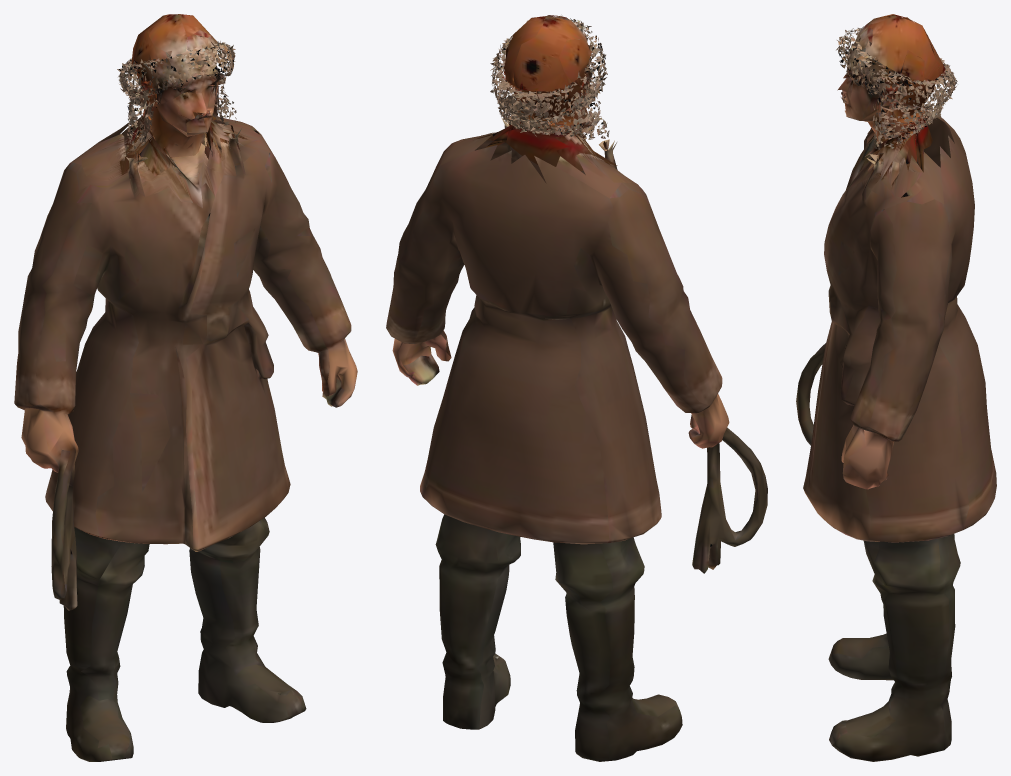
File: herder-dauren.gen.glb
The picture shows the model from 3 angles, left to right: view 1: azimuth 30°, elevation 25°; view 2: azimuth 150°, elevation 25°; view 3: azimuth 270°, elevation 25°; orthographic projection.
Parts seen in each view (by area): view 1: herder-dauren.raw; view 2: herder-dauren.raw; view 3: herder-dauren.raw.
Part boxes in pixels (bbox=[...]): herder-dauren.raw: bbox=[14, 14, 357, 761]; herder-dauren.raw: bbox=[386, 15, 767, 761]; herder-dauren.raw: bbox=[796, 14, 996, 761].
Size of the model in its own units: 0.9164 by 1.85 by 0.4825.
1 material, 1 textured.
